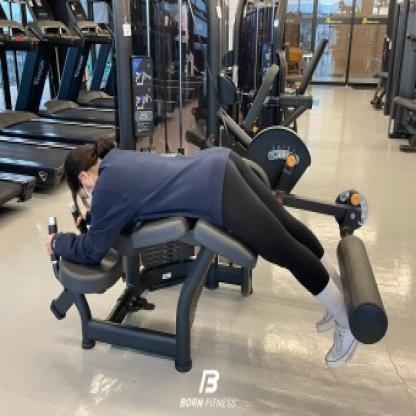reg curl machine: (40, 0, 390, 377)
